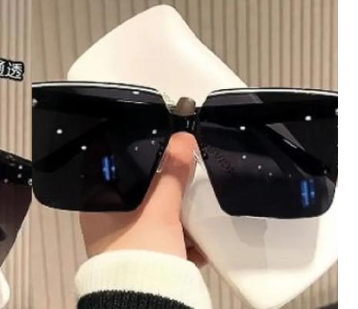glass: (22, 74, 338, 226)
